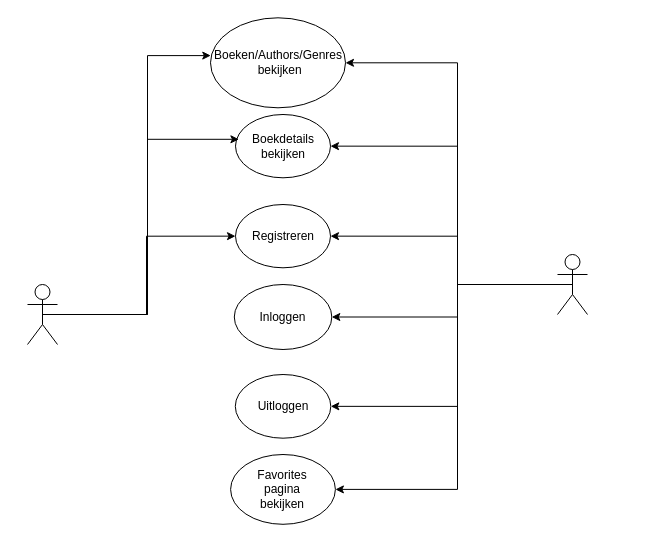
Image size: 656x542. Some labels were removed from this diagram. Here are the shapes that lost their labels. From the top down, the box of each, then its label:
(556, 254, 588, 314): Geregistreerde gebruiker
(26, 284, 58, 344): Bezoeker
